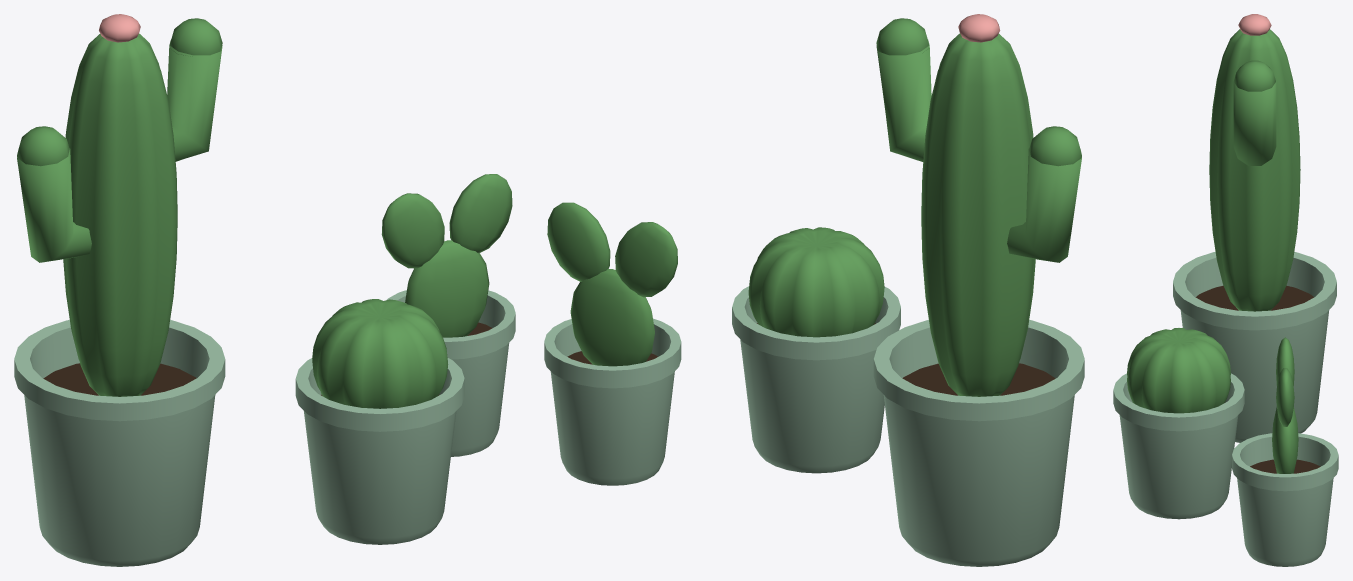
Rendered from cactus_trio.glb.
The picture shows the model from 3 angles, left to right: view 1: azimuth 30°, elevation 25°; view 2: azimuth 150°, elevation 25°; view 3: azimuth 270°, elevation 25°; orthographic projection. The views are drawn at different scales.
Parts seen in each view (by area): view 1: model; view 2: model; view 3: model.
Part boxes in pixels (bbox=[...]): model: bbox=[14, 14, 515, 566]; model: bbox=[544, 14, 1084, 566]; model: bbox=[1113, 14, 1338, 566].
Size of the model in its own units: 0.6019 by 0.5862 by 0.2966.
4 materials, 4 textured.
